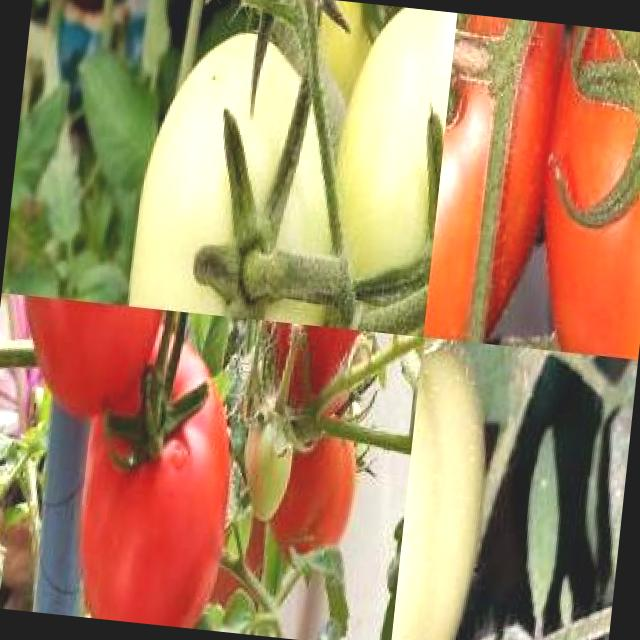Fresh_Tomato: (64, 312, 248, 630), (423, 12, 570, 348), (498, 20, 640, 359), (0, 293, 172, 483), (262, 396, 366, 580), (250, 320, 369, 460), (228, 318, 308, 424)
